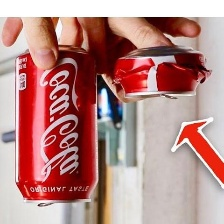can: (9, 44, 99, 211), (108, 42, 215, 102)
